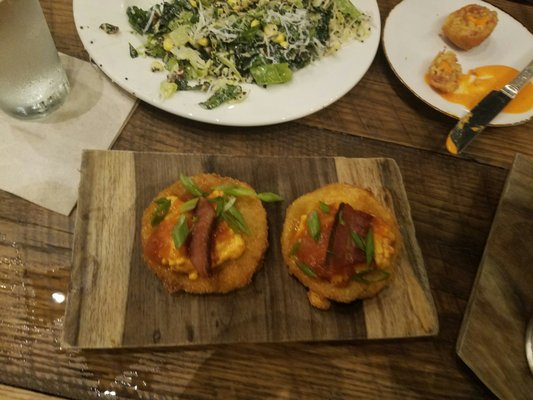pizza: (0, 0, 72, 119)
sandwich: (444, 57, 533, 156)
soup: (280, 181, 401, 309)
